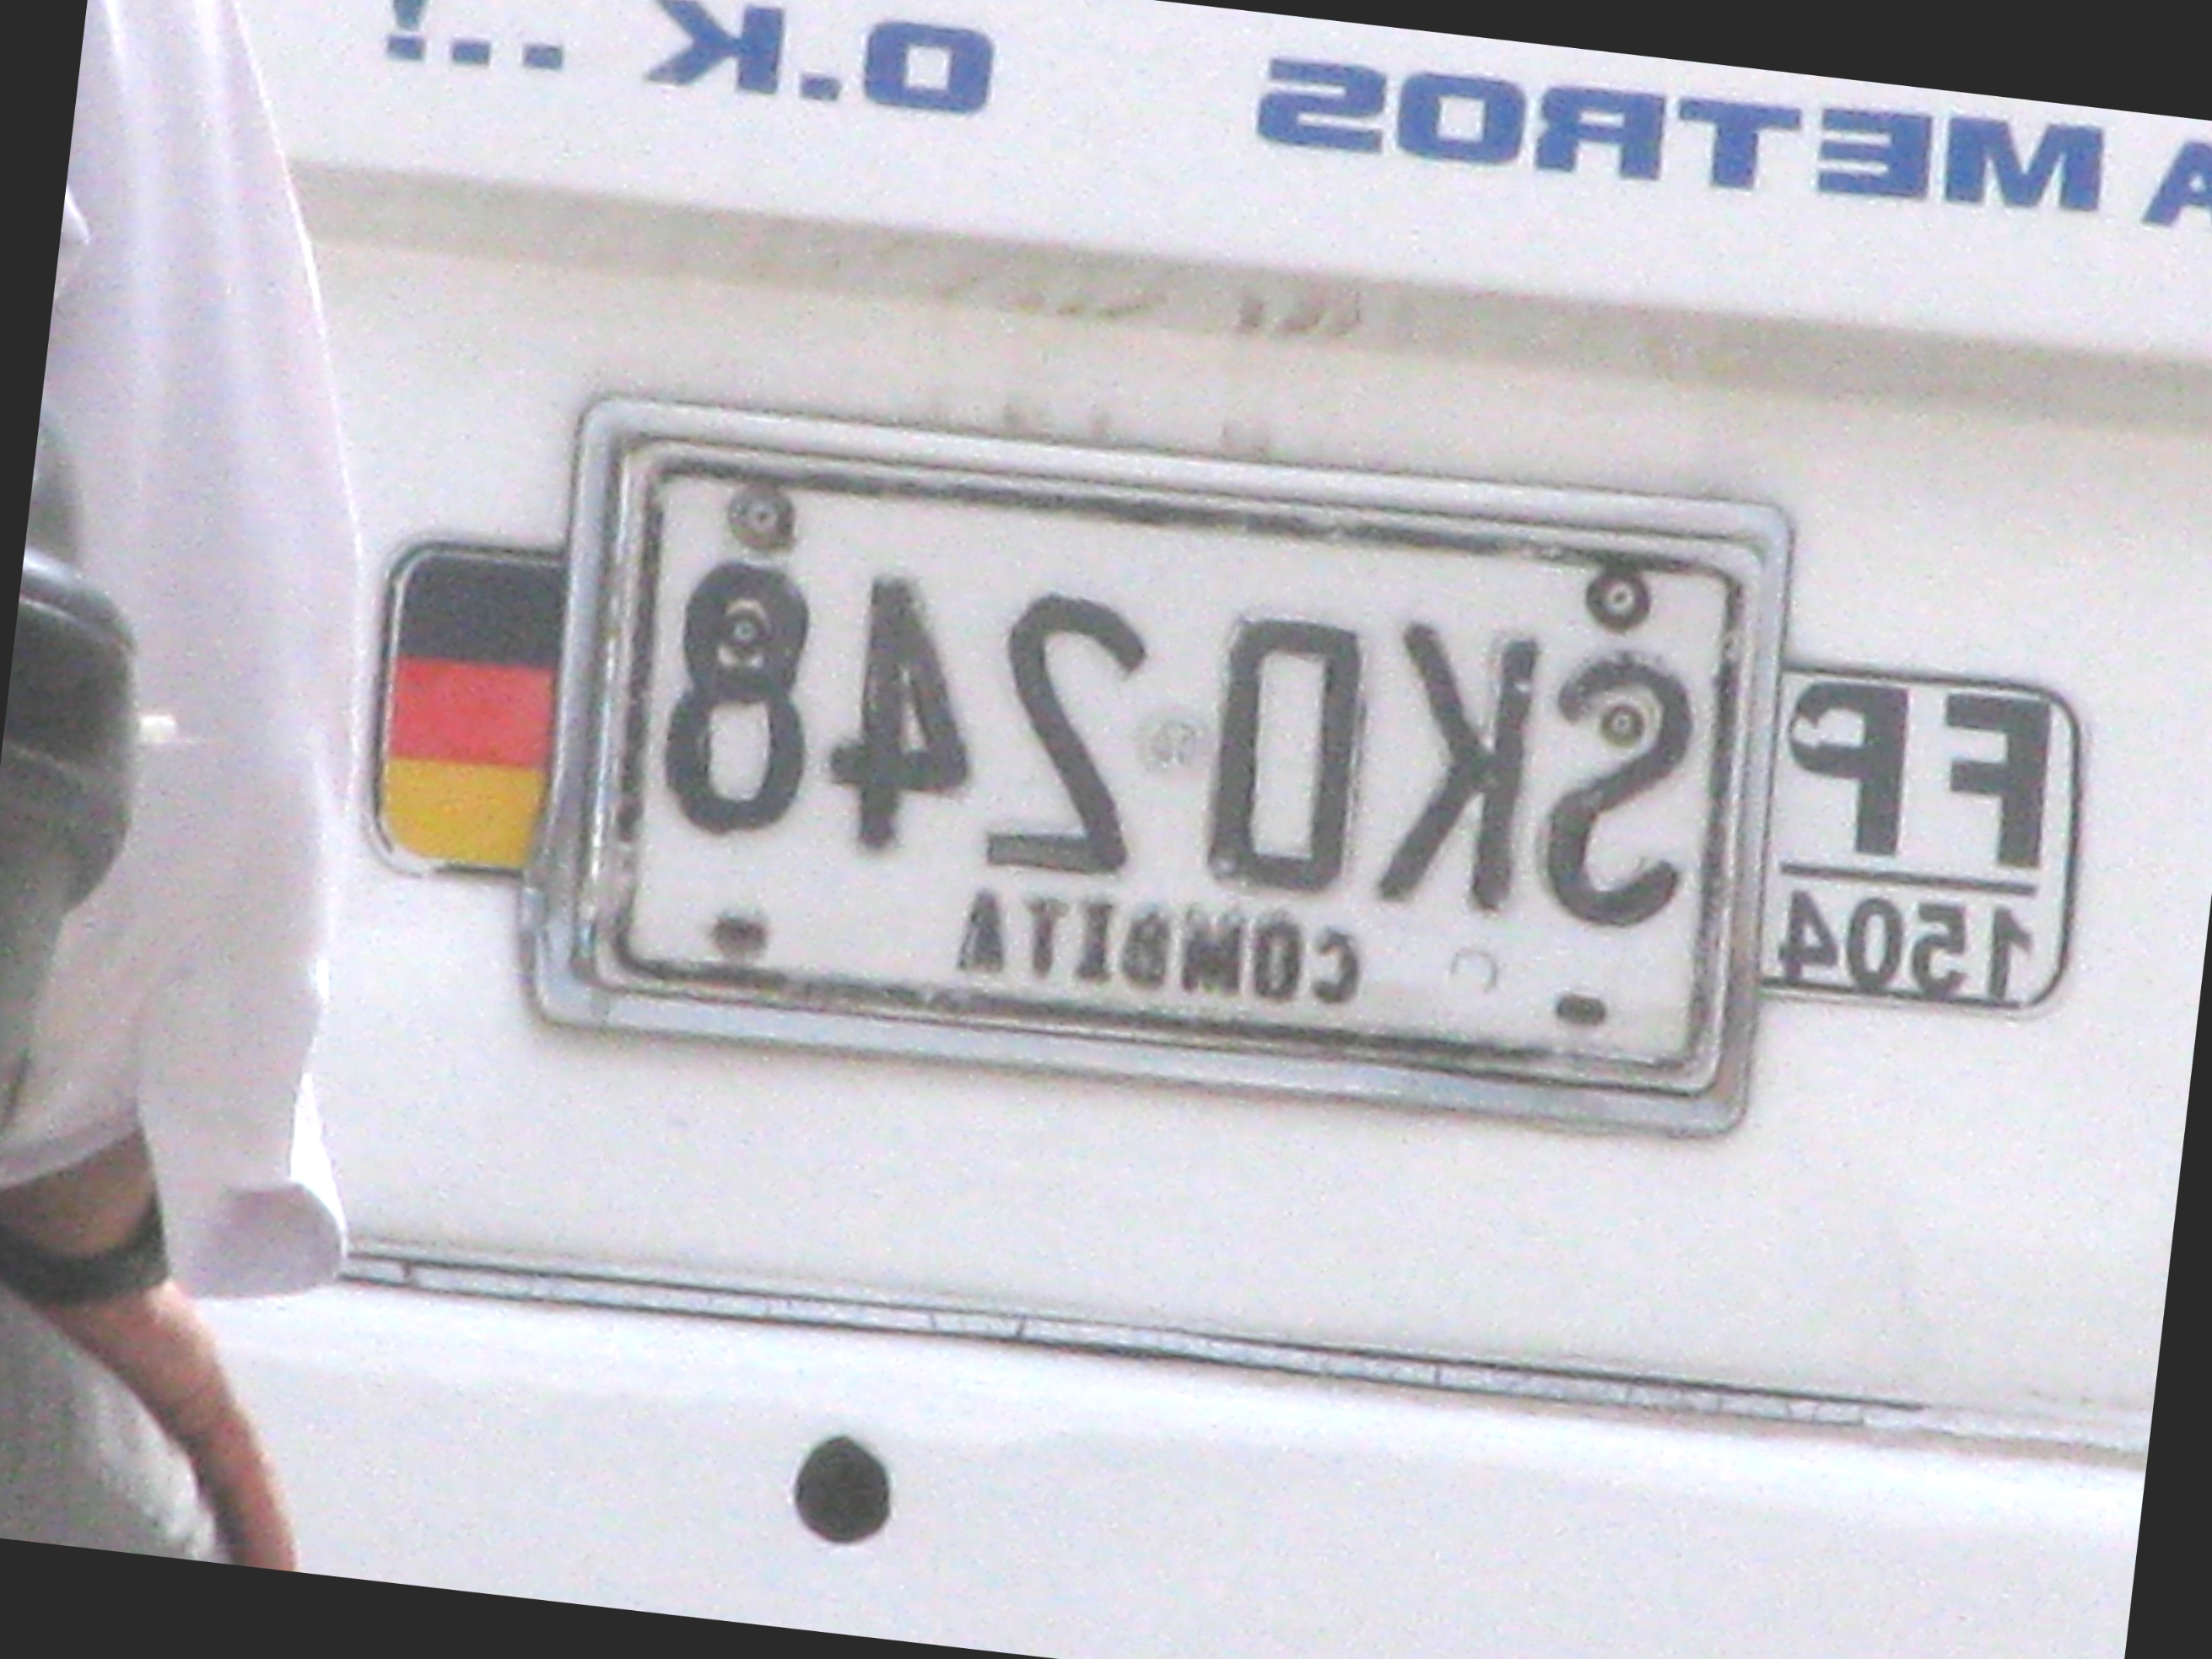placas: (495, 349, 1827, 1172)
